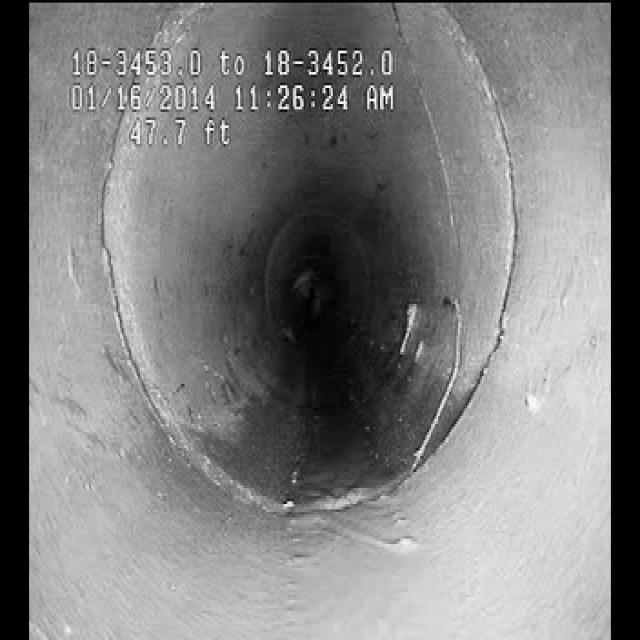Crack: (408, 69, 484, 419)
